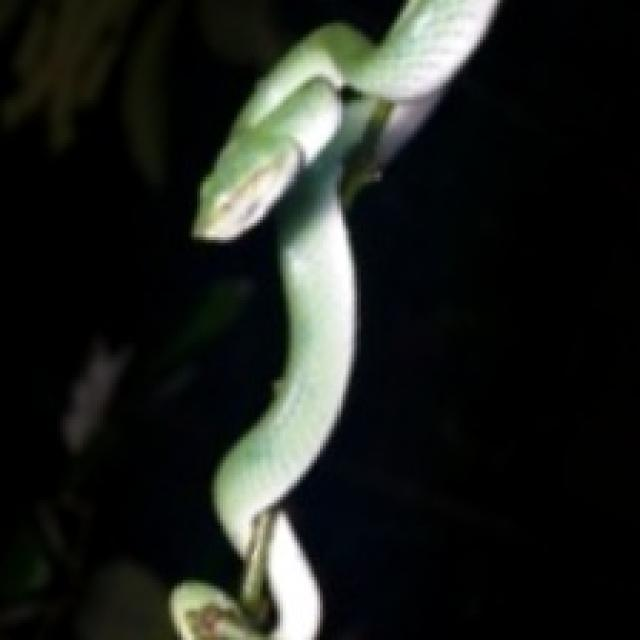north ph temple pitviper: (169, 0, 494, 637)
